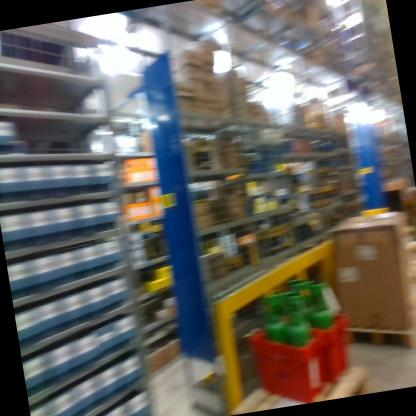pallet: (221, 347, 391, 414), (337, 290, 416, 366)
small_load_carrier: (243, 310, 333, 408), (304, 303, 363, 390)
